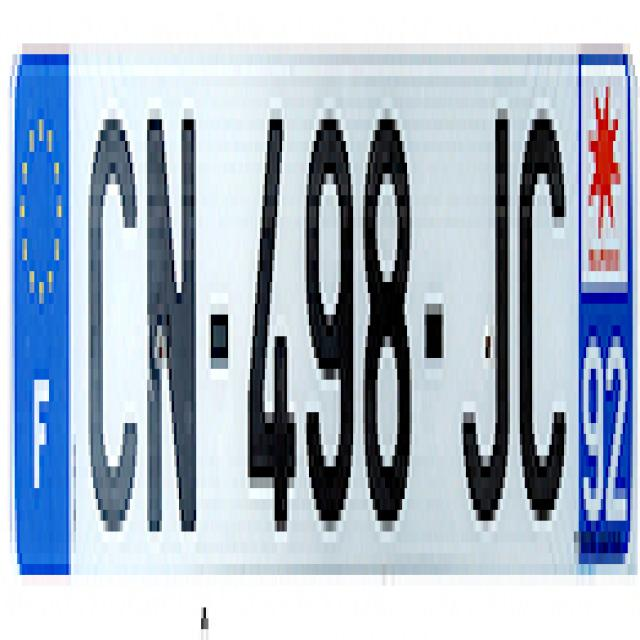EU: (9, 50, 632, 579)
France: (16, 63, 68, 582)
